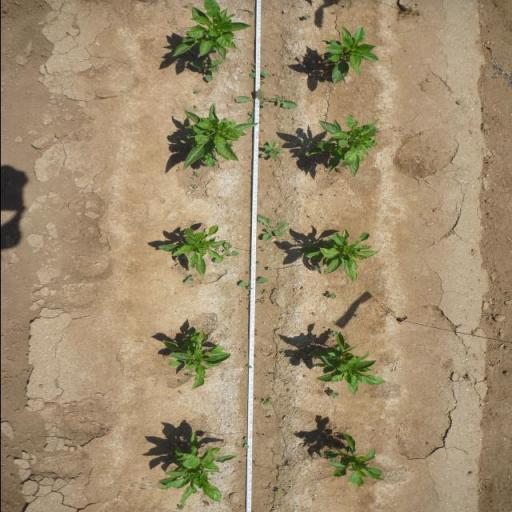plant: (154, 428, 240, 505), (301, 111, 382, 179), (159, 319, 234, 391), (167, 0, 252, 62), (296, 223, 383, 283), (305, 333, 385, 396), (182, 103, 256, 169), (154, 219, 226, 277), (320, 428, 386, 490), (322, 25, 383, 87)
weed: (232, 89, 298, 124), (256, 214, 290, 241), (184, 59, 223, 81), (212, 240, 240, 266), (258, 140, 284, 160), (236, 276, 268, 290), (248, 68, 270, 82), (182, 273, 194, 285), (260, 396, 273, 406), (327, 390, 339, 400), (326, 291, 338, 300), (254, 297, 267, 305), (242, 436, 249, 450), (309, 264, 321, 272), (298, 14, 312, 20), (329, 328, 337, 338), (192, 171, 200, 178), (260, 289, 267, 296), (334, 168, 342, 174), (190, 184, 198, 189), (274, 490, 280, 496), (176, 506, 183, 511), (353, 313, 359, 318), (193, 90, 200, 94), (245, 364, 251, 368), (185, 374, 191, 377)
